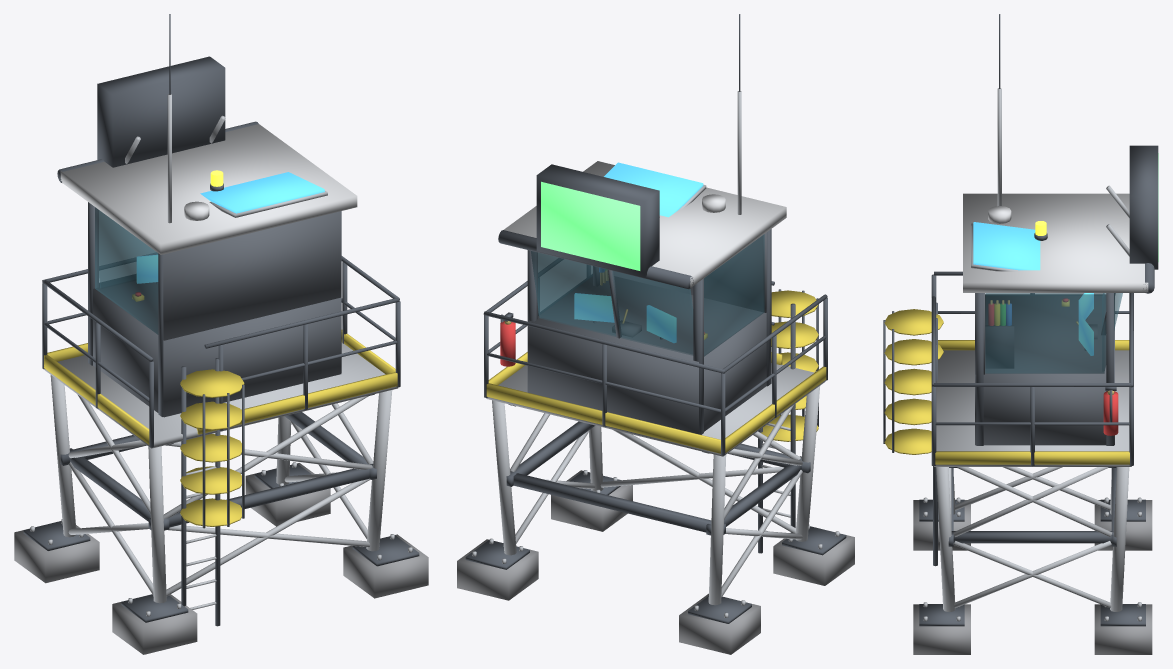
The model's file is photorealistic_marshal_cabin.glb.
3 views of the same model, side by side, from view 1: azimuth 30°, elevation 25°; view 2: azimuth 150°, elevation 25°; view 3: azimuth 270°, elevation 25° (orthographic). The views are drawn at different scales.
Visible parts, largest first — view 1: CanopyRoofMain, CabinLowerWall, CabinRearWall, LedSunCowl, PlatformDeckFloor, LeftObservationWindow, ConcretePad_1, ConcretePad_0, ConcretePad_2, RooftopSolarPanel, PanoramicWindshield, Kickplate_Back (+33 smaller); view 2: CabinLowerWall, PanoramicWindshield, CanopyRoofMain, LedMatrixScreen, LeftObservationWindow, LedSunCowl, CabinRearWall, Kickplate_Front, PlatformDeckFloor, TieGirder_Front_1.35, ConcretePad_3, ConcretePad_2 (+34 smaller); view 3: CabinLowerWall, CanopyRoofMain, RightObservationWindow, PlatformDeckFloor, LedSunCowl, RooftopSolarPanel, Kickplate_Right, ConcretePad_3, ConcretePad_1, TieGirder_Right_1.35, MainColumn_3, MainColumn_1 (+30 smaller).
Part boxes in pixels (x1,y1,x2,y2): CanopyRoofMain: (60,124,357,254); CabinLowerWall: (93,274,341,417); CabinRearWall: (163,211,341,340); LedSunCowl: (97,56,225,167); PlatformDeckFloor: (44,342,398,448); LeftObservationWindow: (95,207,158,334); ConcretePad_1: (343,534,428,598); ConcretePad_0: (112,594,197,654); ConcretePad_2: (14,525,99,583); RooftopSolarPanel: (200,172,324,213); PanoramicWindshield: (99,210,157,287); Kickplate_Back: (197,372,397,434); CabinLowerWall: (528,274,766,434); PanoramicWindshield: (531,251,693,355); CanopyRoofMain: (504,161,786,287); LedMatrixScreen: (541,181,640,270); LeftObservationWindow: (704,234,764,356); LedSunCowl: (536,164,659,277); CabinRearWall: (614,232,766,312); Kickplate_Front: (486,383,720,453); PlatformDeckFloor: (486,363,825,456); TieGirder_Front_1.35: (513,473,725,534); ConcretePad_3: (457,539,538,600); ConcretePad_2: (679,593,760,654); CabinLowerWall: (975,294,1114,445); CanopyRoofMain: (963,193,1148,292); RightObservationWindow: (985,294,1104,373); PlatformDeckFloor: (934,350,1131,466); LedSunCowl: (1129,145,1158,269); RooftopSolarPanel: (973,222,1040,270); Kickplate_Right: (935,451,1129,464); ConcretePad_3: (1094,604,1152,654); ConcretePad_1: (913,604,970,654); TieGirder_Right_1.35: (951,531,1113,543); MainColumn_3: (1110,467,1129,611); MainColumn_1: (936,467,955,611).
Bounding box in the file's own units: 3.7 × 7.3 × 3.34.
